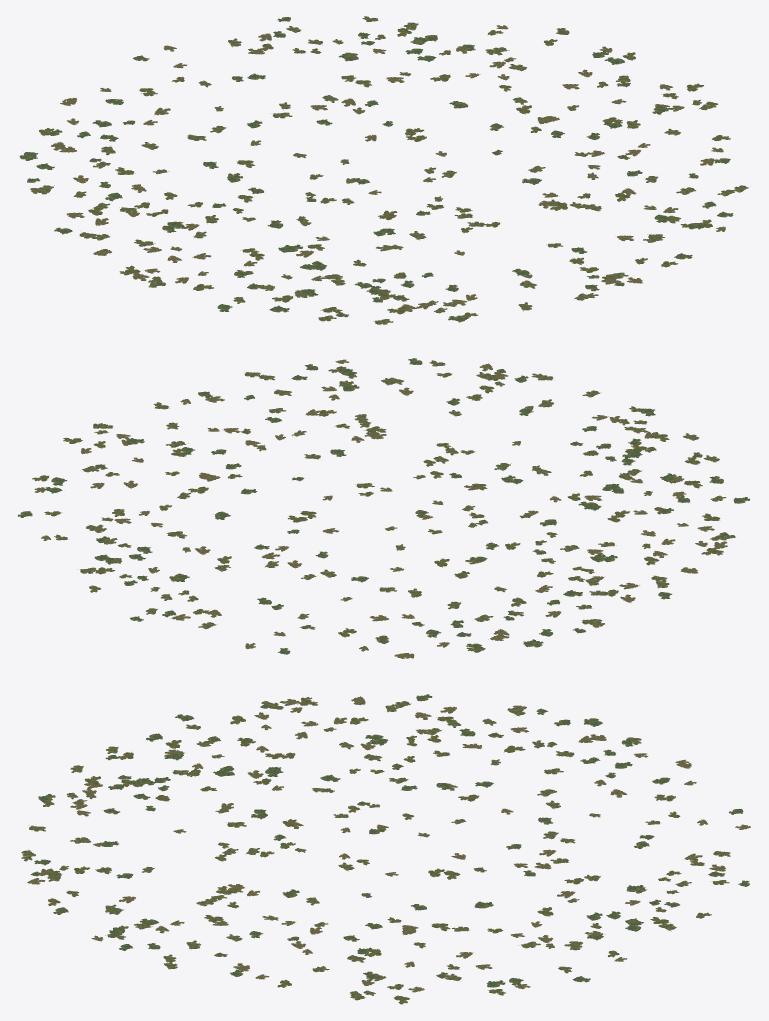
Rendered from aulne_vieux_a.fbx.
3 renders of one model, top to bottom at view 1: azimuth 30°, elevation 25°; view 2: azimuth 150°, elevation 25°; view 3: azimuth 270°, elevation 25°, orthographic. The views are drawn at different scales.
Visible parts, largest first — view 1: aulne_vieux_a_feuilles_sol; view 2: aulne_vieux_a_feuilles_sol; view 3: aulne_vieux_a_feuilles_sol.
Boxes of the visible parts, bbox=[...] form: aulne_vieux_a_feuilles_sol: bbox=[19, 16, 748, 324]; aulne_vieux_a_feuilles_sol: bbox=[17, 358, 750, 658]; aulne_vieux_a_feuilles_sol: bbox=[21, 694, 750, 1004].
Size of what is drawn, in the model's own units: 13.54 by 0.00596 by 13.46.
